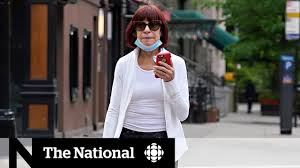mask_weared_incorrect: (132, 15, 163, 52)
